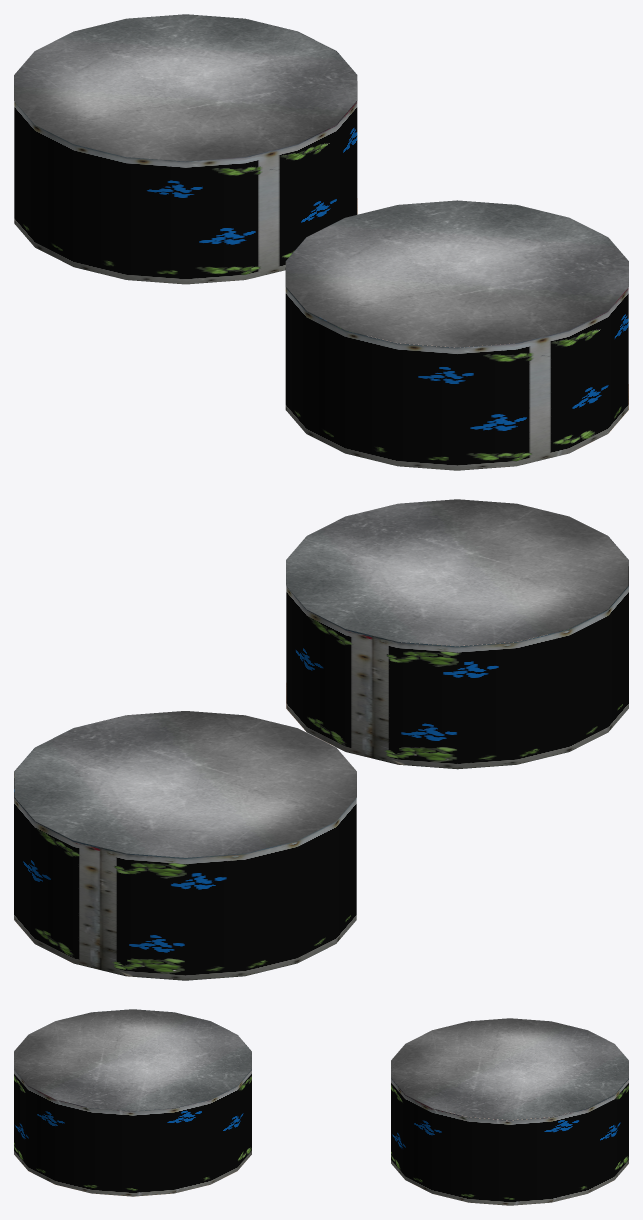
The model's file is EstanqueTiburon.obj.
3 renders of one model, top to bottom at view 1: azimuth 30°, elevation 25°; view 2: azimuth 150°, elevation 25°; view 3: azimuth 270°, elevation 25°, orthographic. The views are drawn at different scales.
Visible parts, largest first — view 1: Cylinder001, Cylinder002, tapa001, tapa; view 2: Cylinder002, Cylinder001, tapa, tapa001; view 3: Cylinder001, Cylinder002, tapa, tapa001.
Part boxes in pixels (left/top/right/bottom): Cylinder001: left=285, top=219, right=628, bottom=470; Cylinder002: left=14, top=14, right=357, bottom=284; tapa001: left=14, top=14, right=356, bottom=161; tapa: left=286, top=200, right=628, bottom=347; Cylinder002: left=14, top=711, right=356, bottom=980; Cylinder001: left=286, top=527, right=628, bottom=769; tapa: left=286, top=499, right=628, bottom=646; tapa001: left=14, top=711, right=356, bottom=857; Cylinder001: left=14, top=1009, right=251, bottom=1196; Cylinder002: left=391, top=1078, right=628, bottom=1205; tapa: left=14, top=1009, right=251, bottom=1111; tapa001: left=391, top=1018, right=628, bottom=1120.
Bounding box in the file's own units: 43 × 18.46 × 109.
Materials: 3 (3 with a texture image).
